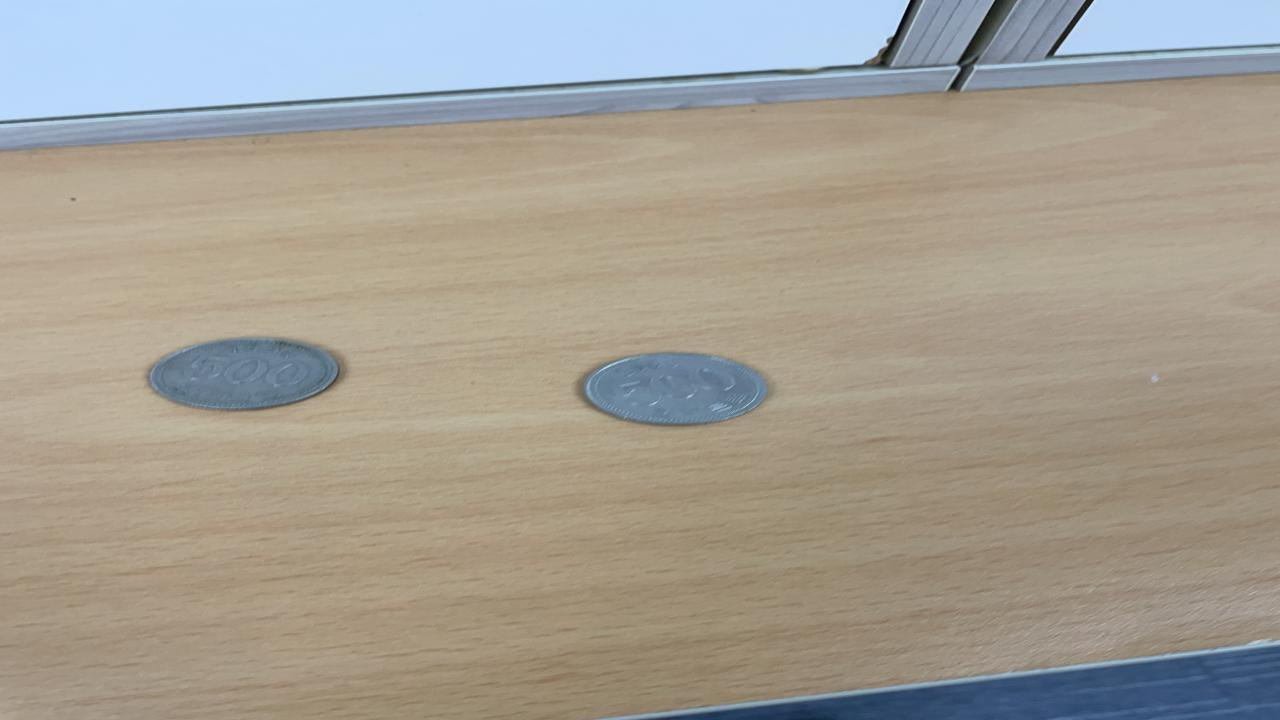coin: (140, 333, 348, 413), (581, 350, 777, 428)
